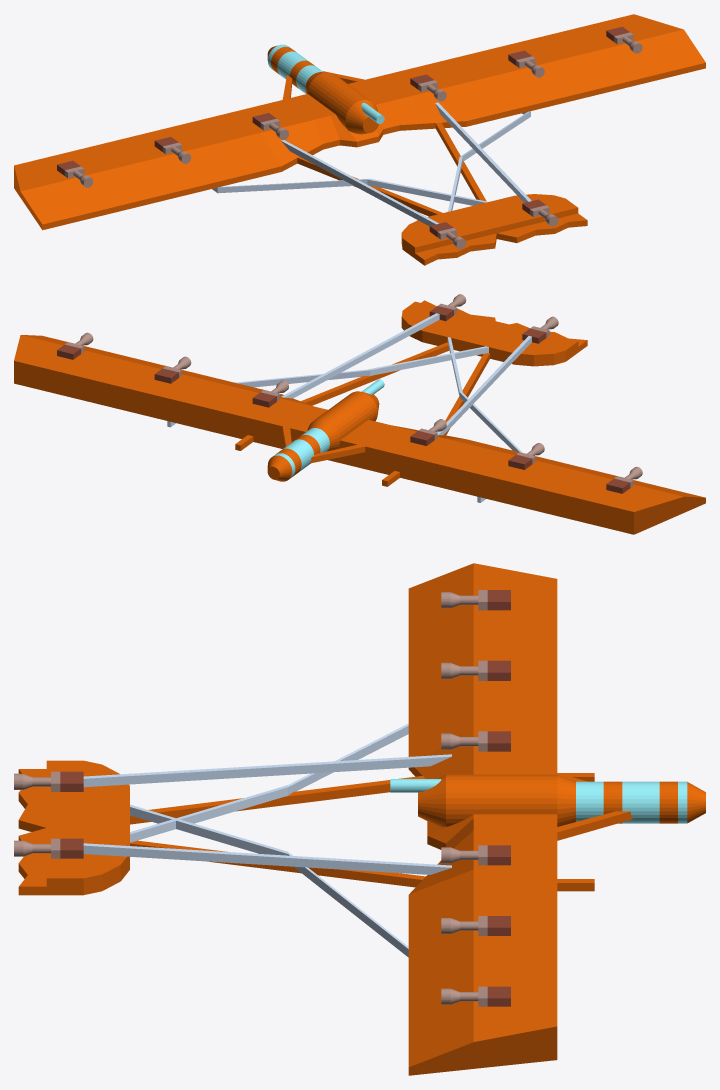
Rendered from Boss1.dae.
3 views of the same model, one above another, from view 1: azimuth 30°, elevation 25°; view 2: azimuth 150°, elevation 25°; view 3: azimuth 270°, elevation 25° (orthographic). The views are drawn at different scales.
Parts seen in each view (by area): view 1: Cube.004, Gun.005, Gun.004, Gun.006, Gun, Gun.003, Gun.007, Gun.002, Gun.001; view 2: Cube.004, Gun, Gun.004, Gun.002, Gun.005, Gun.001, Gun.003, Gun.006, Gun.007; view 3: Cube.004, Gun.002, Gun, Gun.005, Gun.001, Gun.003, Gun.007, Gun.006, Gun.004.
Part boxes in pixels (left/top/right/bottom): Cube.004: left=14, top=14, right=705, bottom=265; Gun.005: left=606, top=26, right=642, bottom=53; Gun.004: left=508, top=50, right=544, bottom=77; Gun.006: left=429, top=222, right=466, bottom=249; Gun: left=57, top=160, right=93, bottom=187; Gun.003: left=410, top=74, right=446, bottom=101; Gun.007: left=522, top=199, right=558, bottom=226; Gun.002: left=252, top=113, right=288, bottom=139; Gun.001: left=154, top=137, right=191, bottom=163; Cube.004: left=14, top=300, right=705, bottom=534; Gun: left=606, top=466, right=642, bottom=493; Gun.004: left=154, top=356, right=191, bottom=383; Gun.002: left=410, top=419, right=446, bottom=445; Gun.005: left=57, top=332, right=93, bottom=359; Gun.001: left=508, top=443, right=544, bottom=469; Gun.003: left=252, top=380, right=288, bottom=407; Gun.006: left=522, top=316, right=558, bottom=343; Gun.007: left=429, top=294, right=466, bottom=321; Cube.004: left=18, top=563, right=705, bottom=1075; Gun.002: left=441, top=731, right=510, bottom=751; Gun: left=441, top=590, right=510, bottom=610; Gun.005: left=441, top=986, right=510, bottom=1006; Gun.001: left=441, top=660, right=510, bottom=680; Gun.003: left=441, top=845, right=510, bottom=865; Gun.007: left=14, top=838, right=83, bottom=858; Gun.006: left=14, top=771, right=83, bottom=791; Gun.004: left=441, top=916, right=510, bottom=935.
Size of the model in its own units: 61 by 37.25 by 4.
